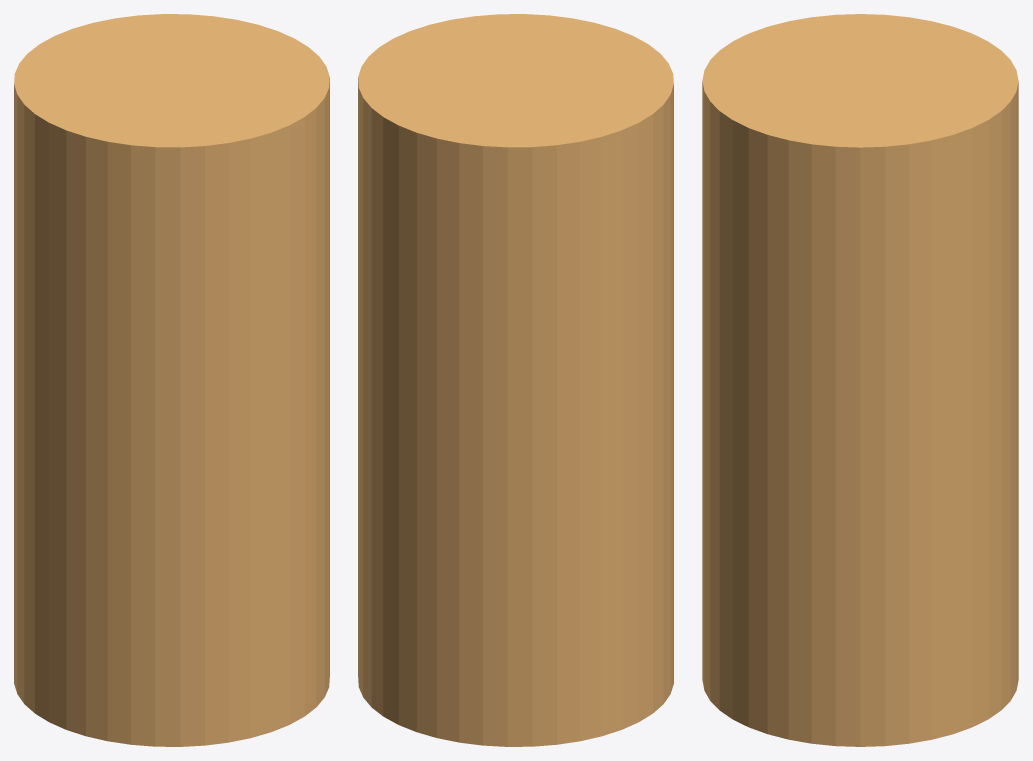
The model's file is med_pill_bottle_0051.glb.
3 renders of one model, left to right at view 1: azimuth 30°, elevation 25°; view 2: azimuth 150°, elevation 25°; view 3: azimuth 270°, elevation 25°, orthographic.
Parts seen in each view (by area): view 1: z-up-to-y-up; view 2: z-up-to-y-up; view 3: z-up-to-y-up.
Part boxes in pixels (x1=…): z-up-to-y-up: x1=14, y1=14, x2=329, y2=746; z-up-to-y-up: x1=358, y1=14, x2=673, y2=746; z-up-to-y-up: x1=702, y1=14, x2=1018, y2=746.
Bounding box in the file's own units: 0.0503 × 0.1053 × 0.0503.
